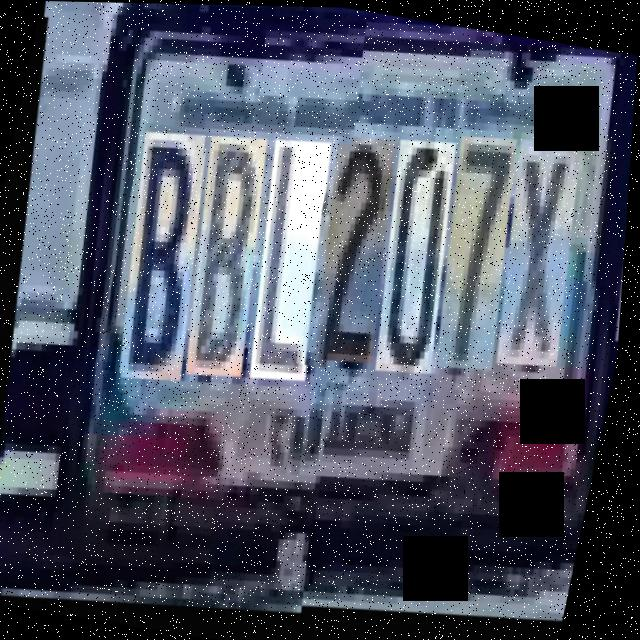0: (352, 140, 471, 385)
2: (295, 135, 411, 373)
7: (413, 138, 531, 382)
B: (99, 121, 225, 380), (165, 126, 283, 378)
L: (229, 131, 347, 383)
X: (475, 142, 595, 380)
